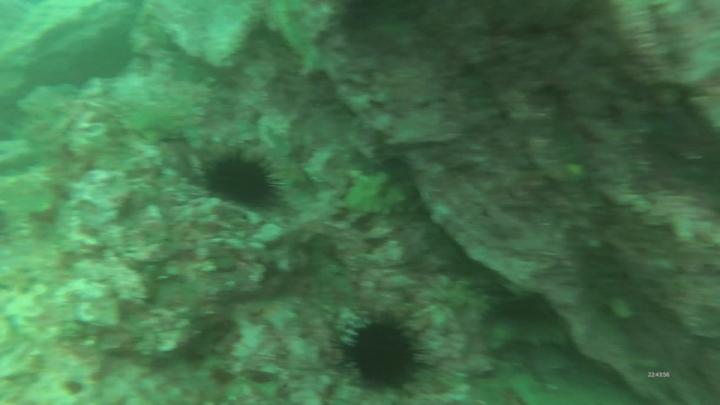echinus: (338, 309, 428, 397), (198, 144, 286, 212)
holothurian: (336, 176, 435, 223), (488, 315, 575, 354)
